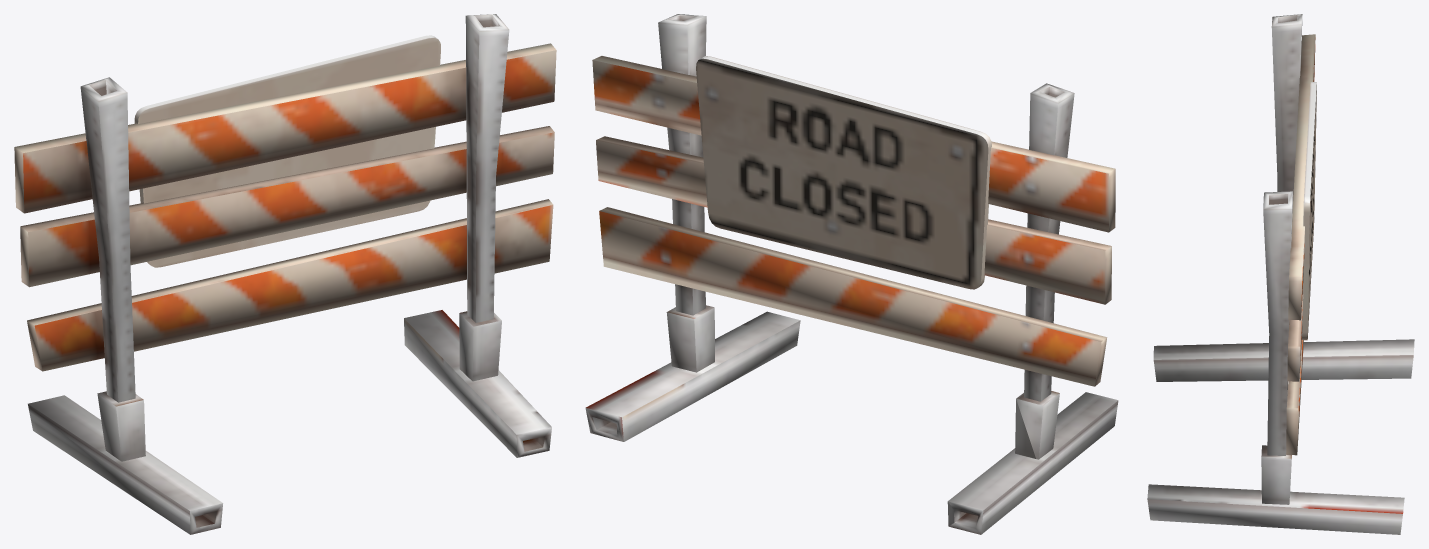
Rendered from nc_prop_barrier_sign_01.fbx.
The picture shows the model from 3 angles, left to right: view 1: azimuth 30°, elevation 25°; view 2: azimuth 150°, elevation 25°; view 3: azimuth 270°, elevation 25°; orthographic projection. The views are drawn at different scales.
Parts seen in each view (by area): view 1: nc_prop_barrier_sign_01_LOD0; view 2: nc_prop_barrier_sign_01_LOD0; view 3: nc_prop_barrier_sign_01_LOD0.
Part boxes in pixels (x1=…): nc_prop_barrier_sign_01_LOD0: x1=14, y1=14, x2=556, y2=534; nc_prop_barrier_sign_01_LOD0: x1=585, y1=14, x2=1118, y2=534; nc_prop_barrier_sign_01_LOD0: x1=1147, y1=14, x2=1414, y2=534.
Size of what is drawn, in the model's own units: 2 by 1.43 by 1.
1 material, 1 textured.
